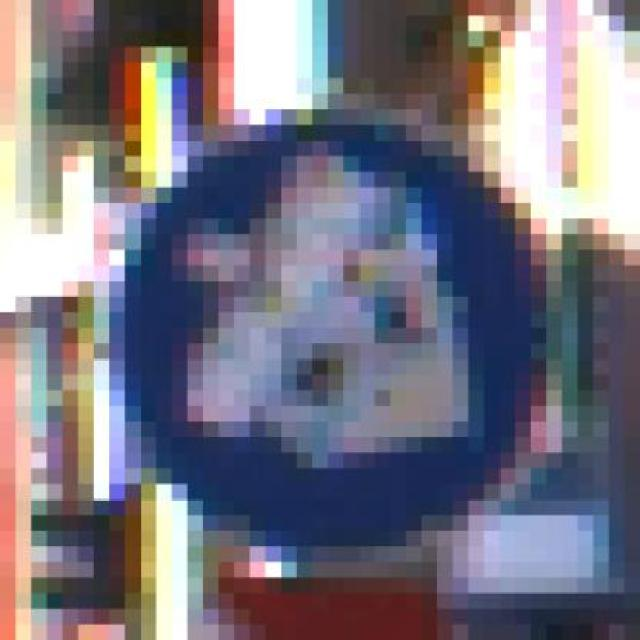Keep-Right: (47, 109, 593, 562)
